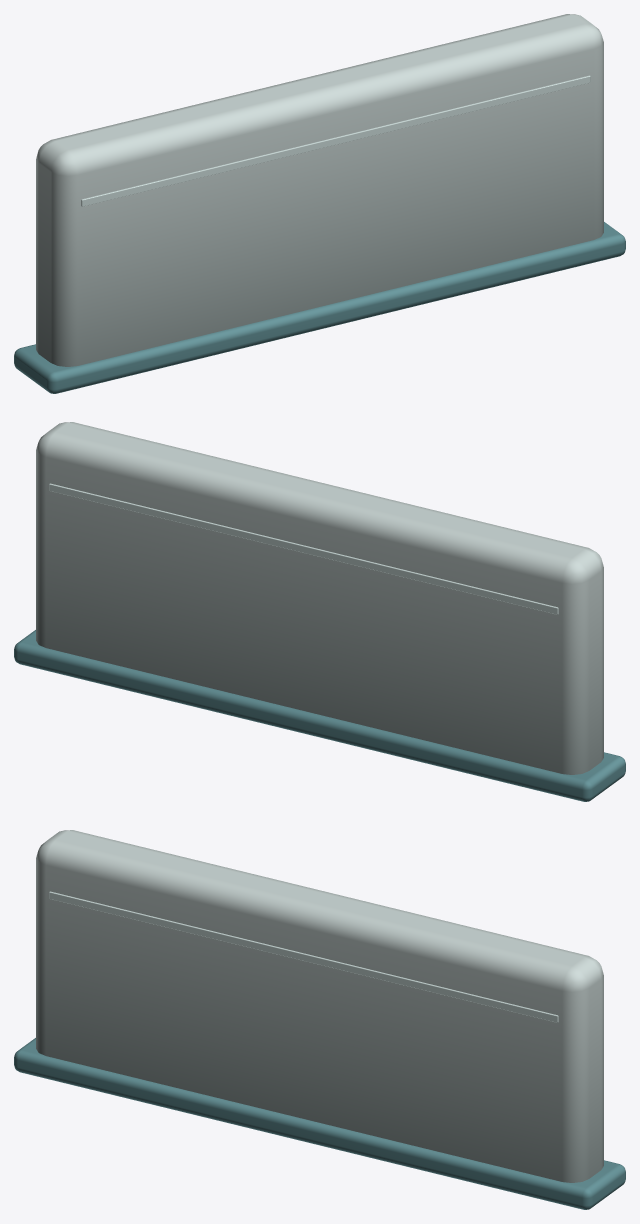
Rendered from wall.glb.
3 renders of one model, top to bottom at view 1: azimuth 30°, elevation 25°; view 2: azimuth 150°, elevation 25°; view 3: azimuth 330°, elevation 25°, orthographic.
Parts seen in each view (by area): view 1: wall; view 2: wall; view 3: wall.
Part boxes in pixels (bbox=[...]): wall: bbox=[14, 14, 625, 393]; wall: bbox=[14, 422, 625, 801]; wall: bbox=[14, 830, 625, 1209].
Bounding box in the file's own units: 8.4 × 3.2 × 1.
